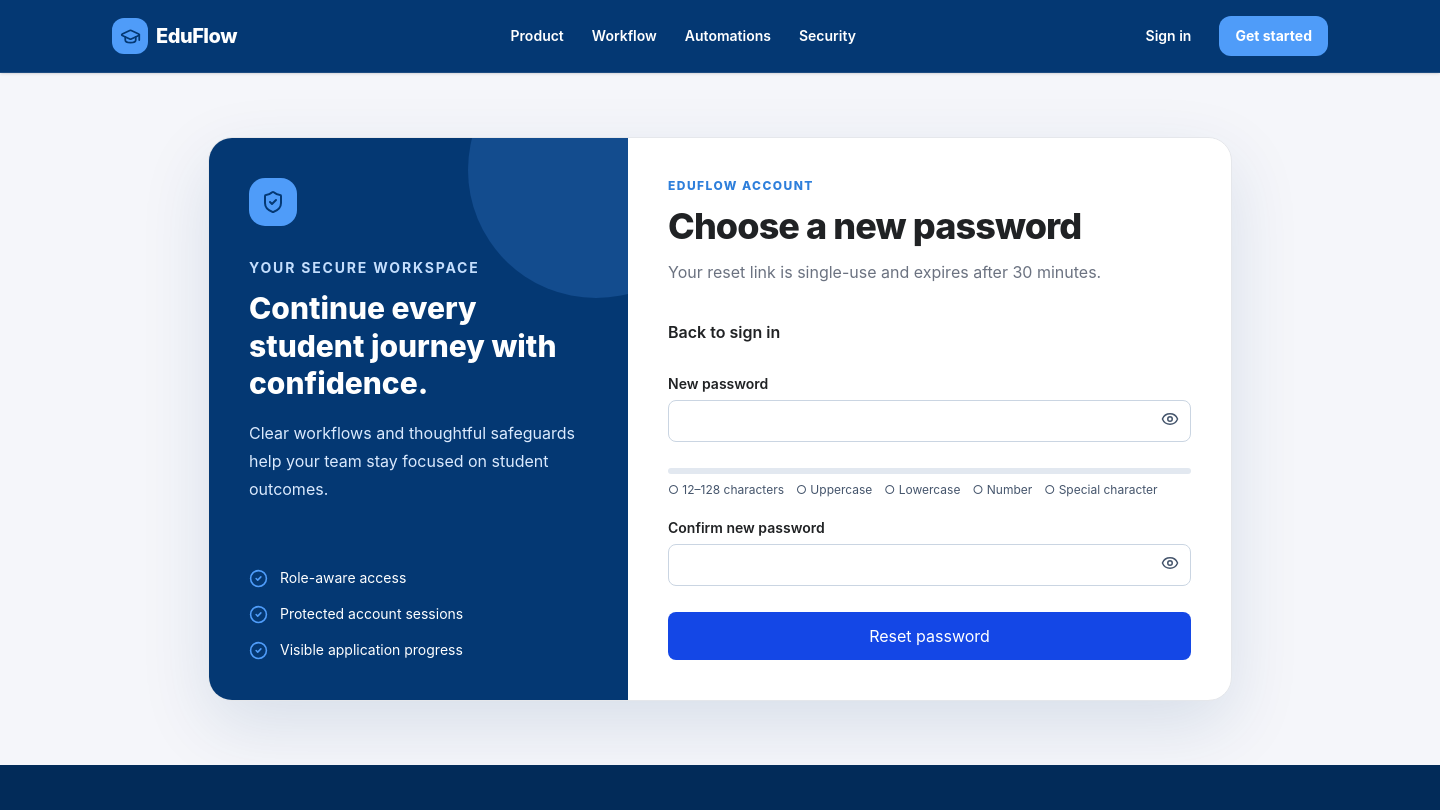
Scenario: verification and recovery email interfaces › does not redirect failed or expired reset tokens as success
Type "New-Password-Test7!" into the password field labelled "New password".
click(930, 421); type("New-Password-Test7!")  # box x1=668 y1=400 x2=1191 y2=442
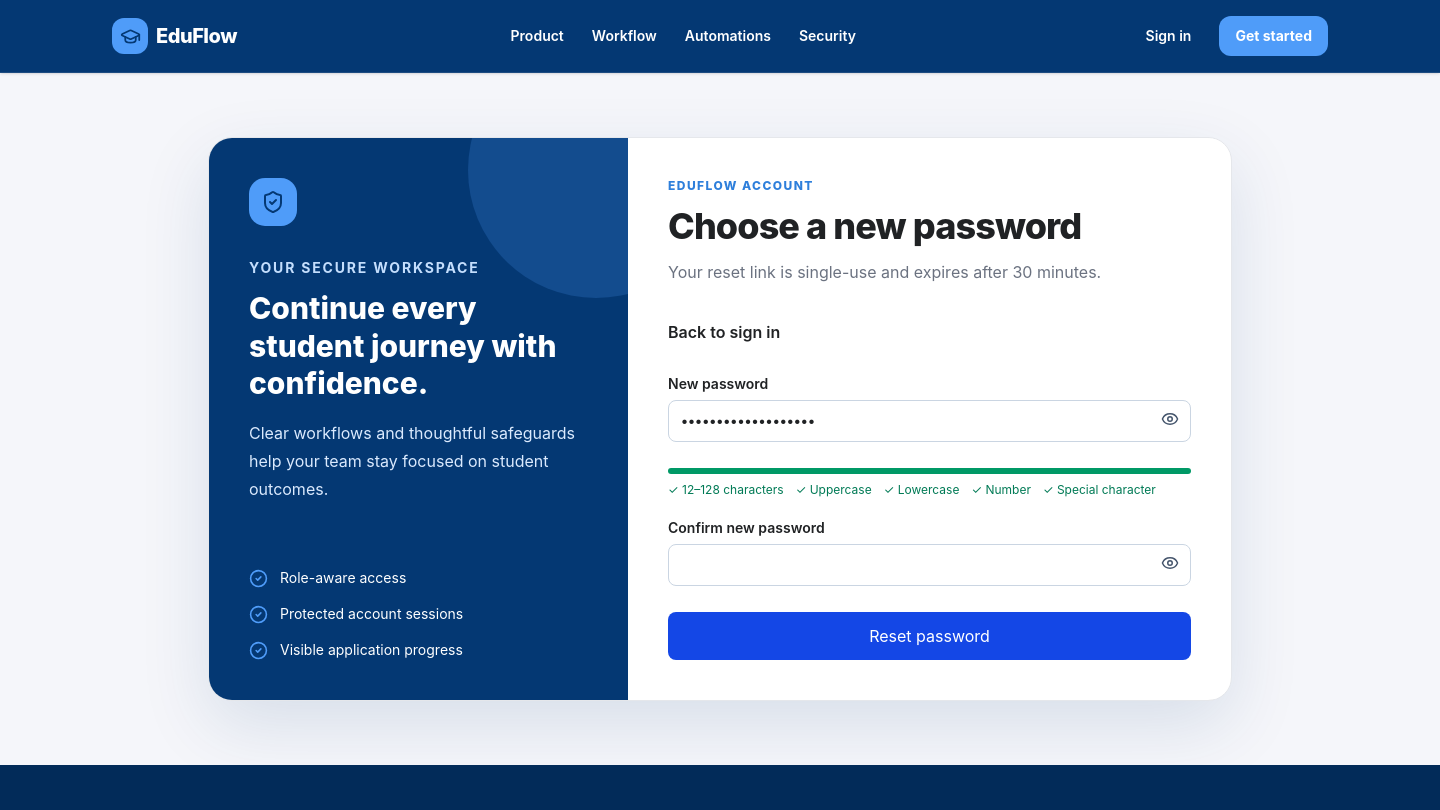
Type "New-Password-Test7!" into the password field labelled "Confirm new password".
click(930, 565); type("New-Password-Test7!")  # box x1=668 y1=544 x2=1191 y2=586
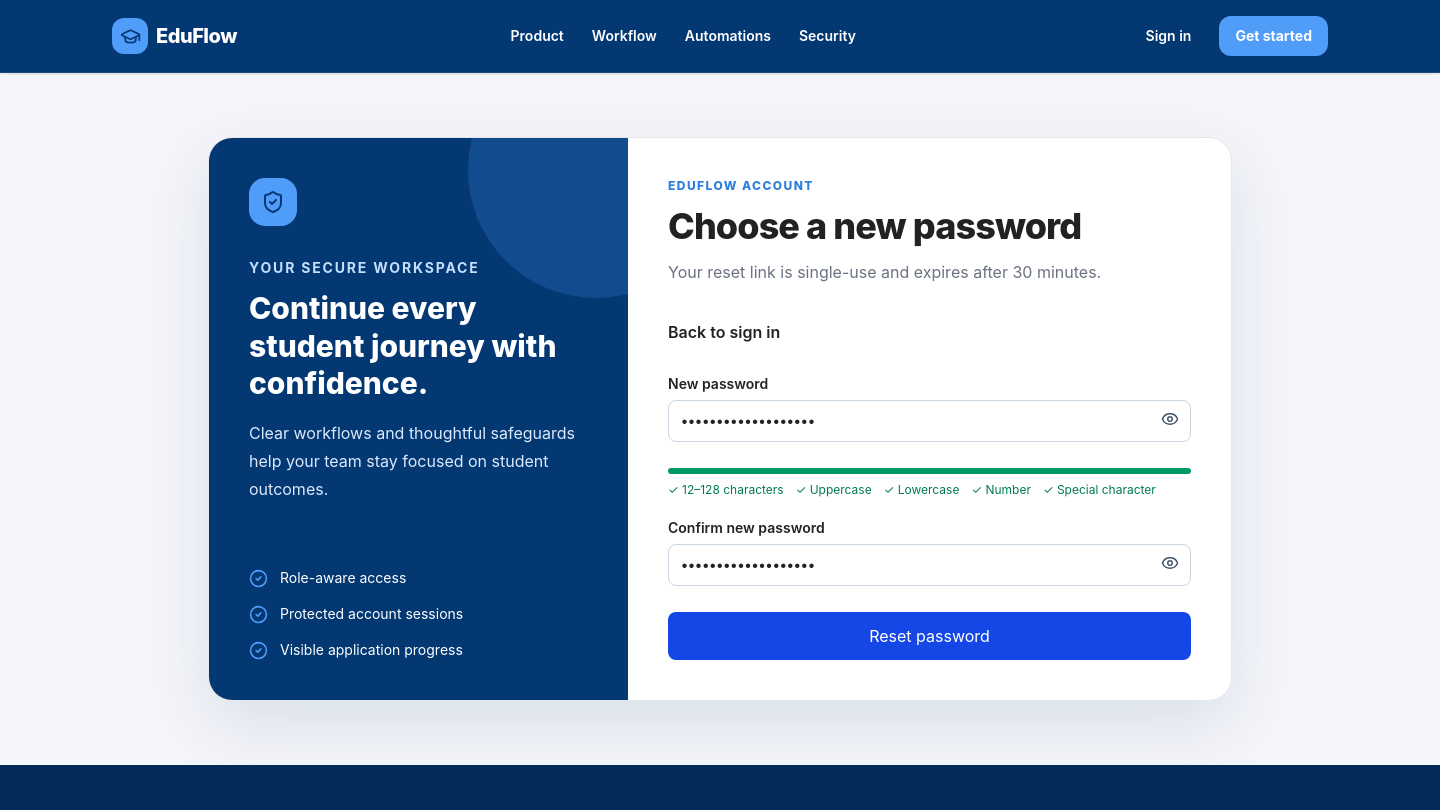
Click the button "Reset password".
click(930, 636)  # box x1=668 y1=612 x2=1191 y2=660
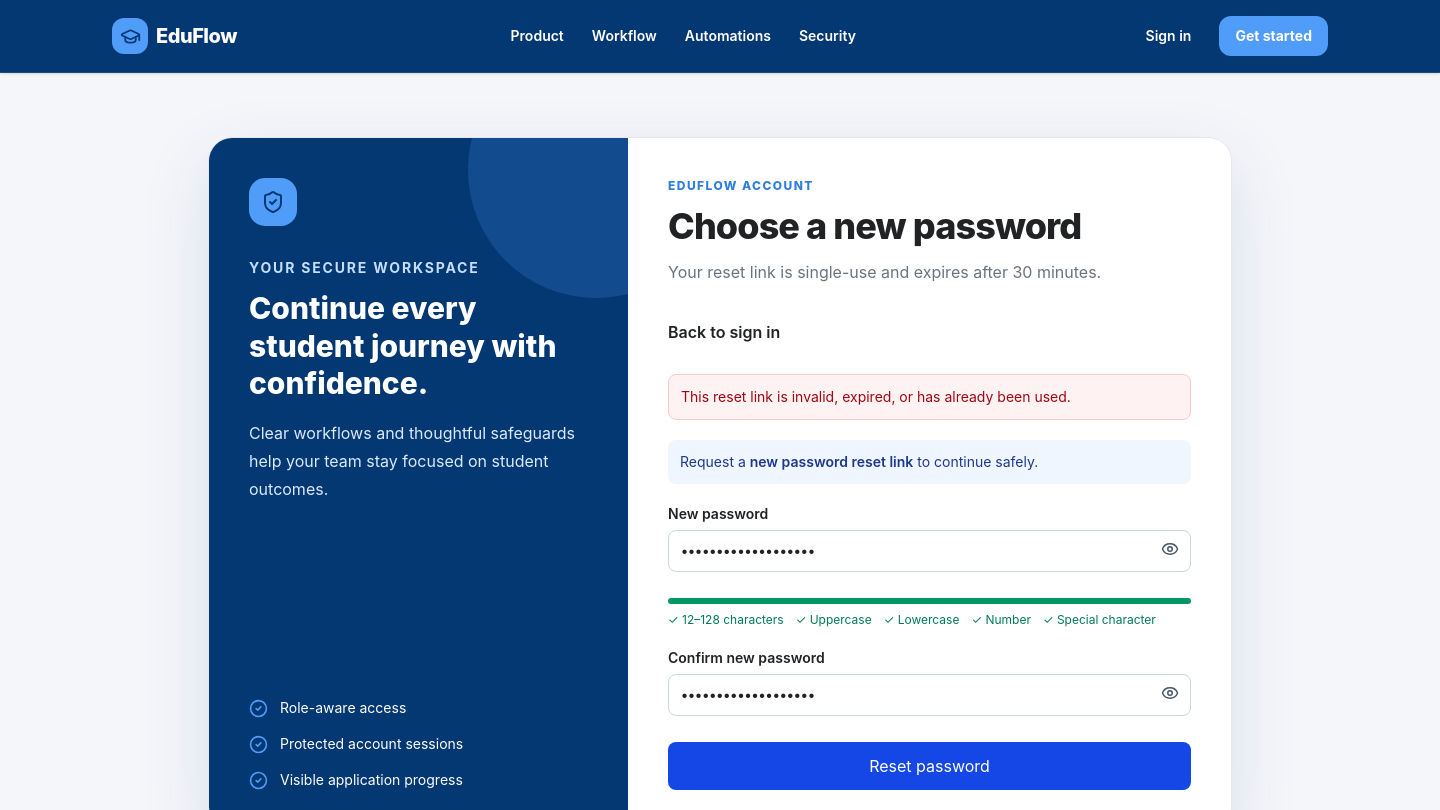
Check: the message reads "This reset link is invalid, expired, or has already been used.", box x1=681 y1=388 x2=1071 y2=405
